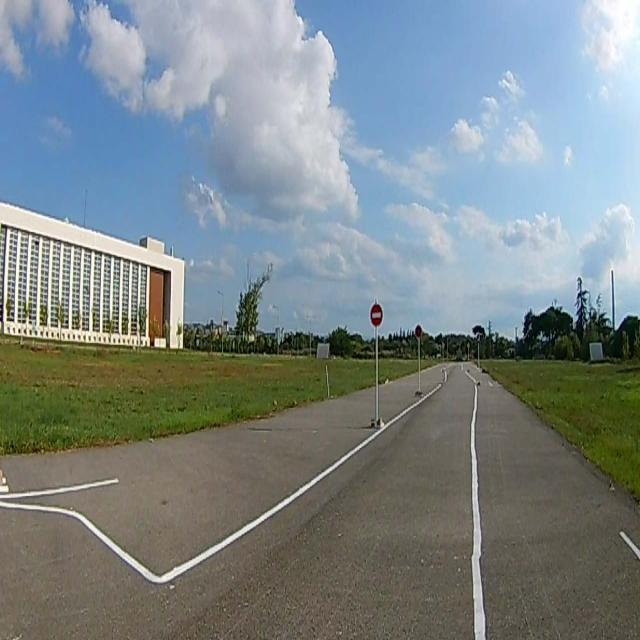girisyok: (370, 304, 382, 325)
